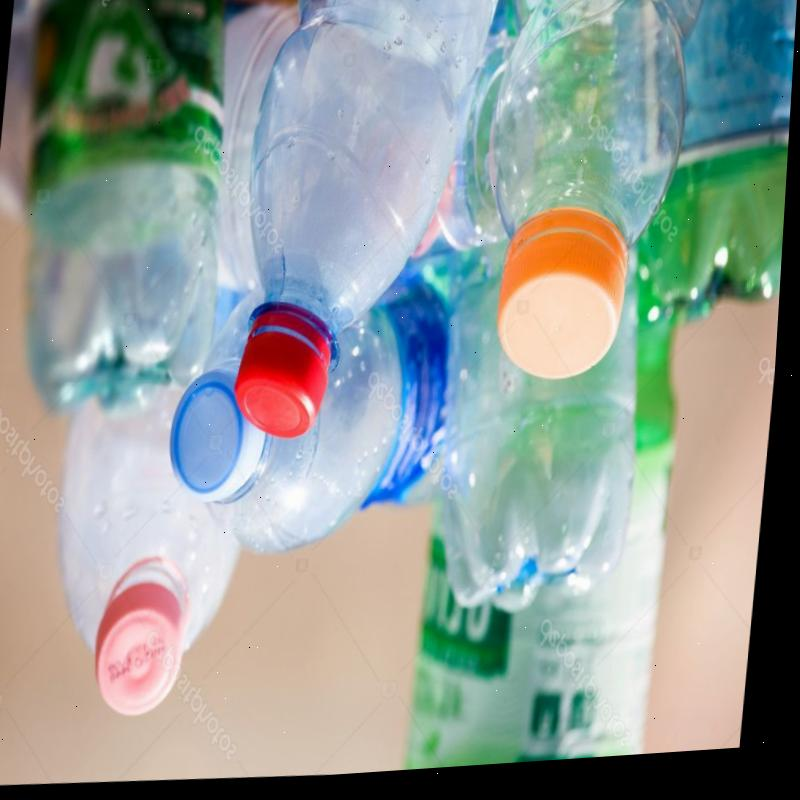botella: (406, 302, 704, 777), (228, 0, 517, 452), (473, 0, 722, 409), (6, 0, 239, 435), (162, 286, 456, 578), (50, 347, 270, 730), (433, 273, 662, 637)
